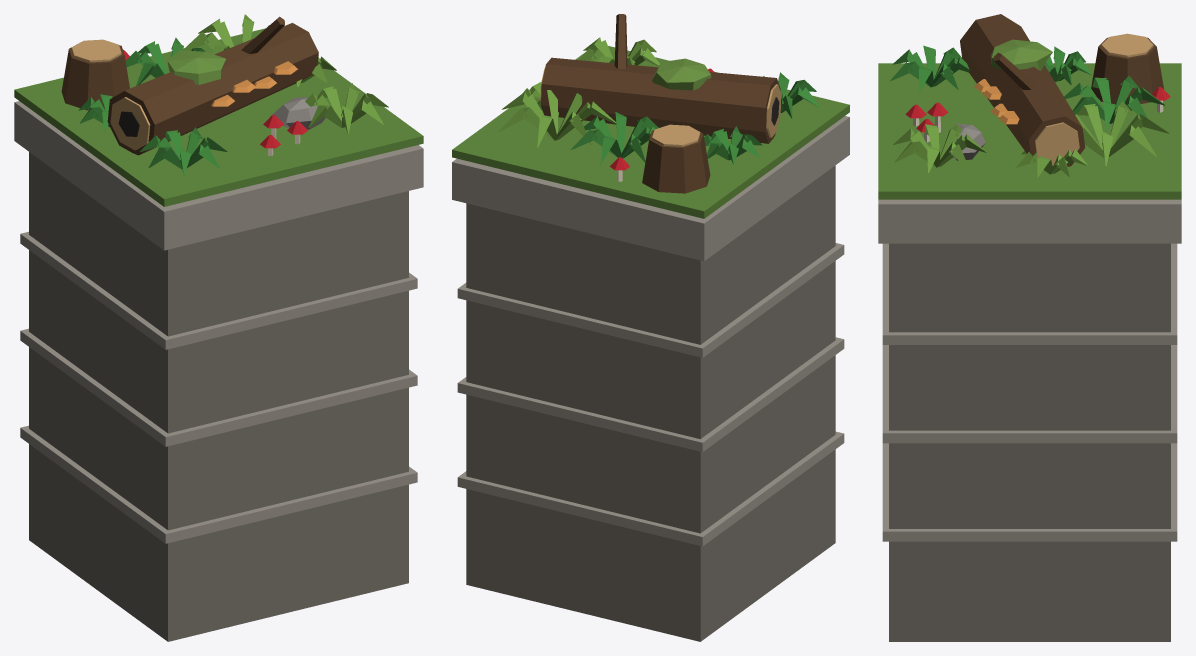
File: decor_fern_log.glb
3 renders of one model, left to right at view 1: azimuth 30°, elevation 25°; view 2: azimuth 150°, elevation 25°; view 3: azimuth 270°, elevation 25°, orthographic. The views are drawn at different scales.
Parts seen in each view (by area): view 1: decor_fern_log; view 2: decor_fern_log; view 3: decor_fern_log.
Boxes of the visible parts, <box> form: decor_fern_log: <box>14,14,423,641</box>; decor_fern_log: <box>452,14,849,641</box>; decor_fern_log: <box>878,14,1181,641</box>.
Size of the model in its own units: 2.8 by 5.61 by 2.8.
